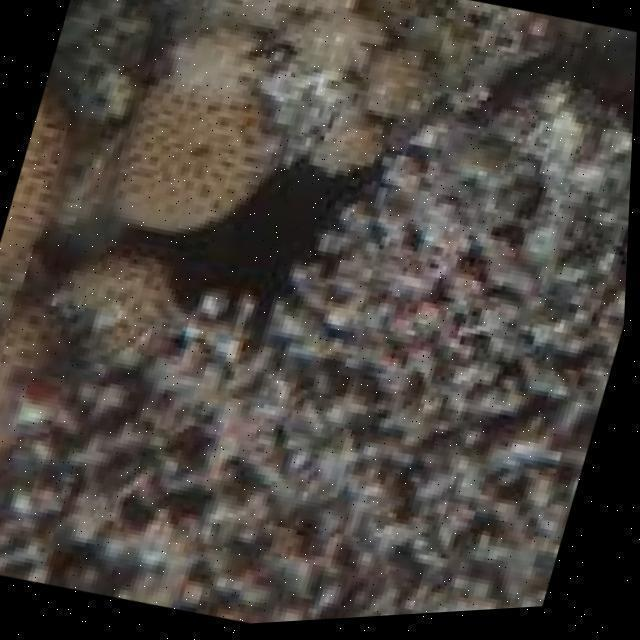Healthy Coral: (0, 55, 295, 409)
